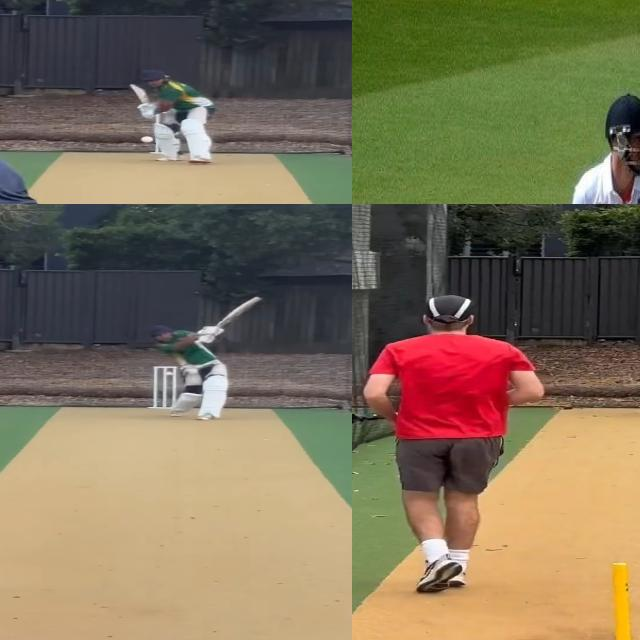Cricket ball: (138, 134, 156, 146), (165, 371, 176, 378)
Stumps: (149, 364, 179, 411)
